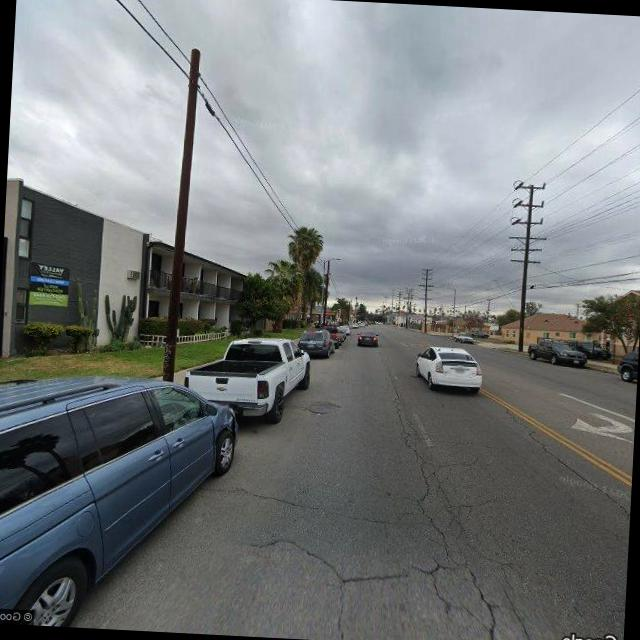crack: (383, 391, 505, 640), (504, 405, 634, 514), (217, 534, 432, 590), (192, 480, 396, 530)
